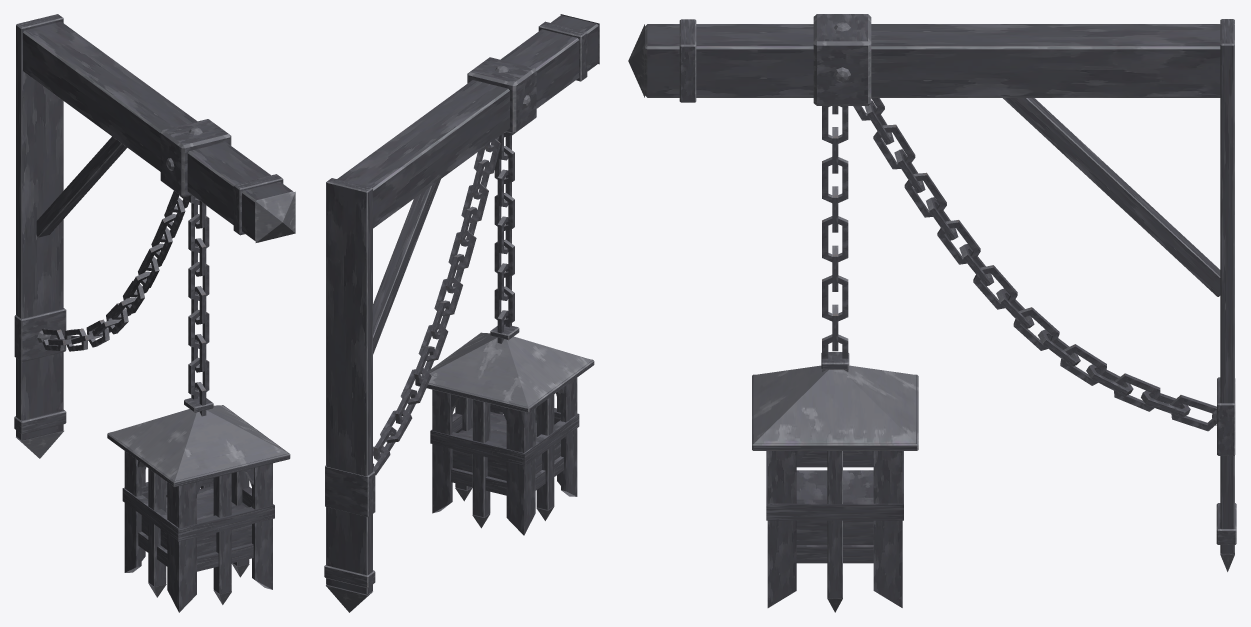
File: Lab_Lantern.glb
The picture shows the model from 3 angles, left to right: view 1: azimuth 30°, elevation 25°; view 2: azimuth 150°, elevation 25°; view 3: azimuth 270°, elevation 25°; orthographic projection. The views are drawn at different scales.
Parts seen in each view (by area): view 1: Lab_Lantern; view 2: Lab_Lantern; view 3: Lab_Lantern.
Boxes of the visible parts, bbox=[...] form: Lab_Lantern: bbox=[14, 14, 295, 612]; Lab_Lantern: bbox=[324, 14, 599, 612]; Lab_Lantern: bbox=[628, 14, 1236, 612].
Bounding box in the file's own units: 0.3573 × 1.34 × 1.3.
Materials: 1 (1 with a texture image).
